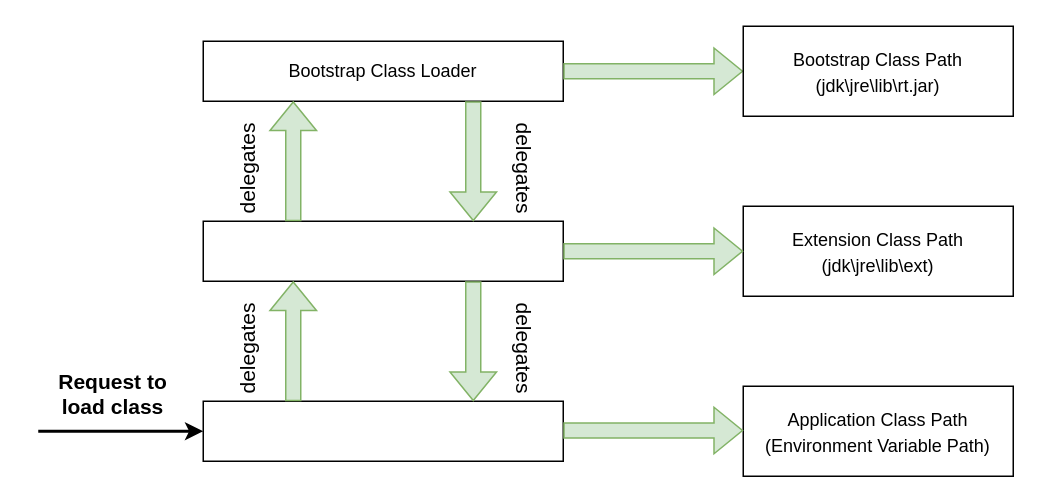
Image size: 1040x503. Some labels were removed from this diagram. Here are the shapes that lost their labels. From the top down, the box of each, then its label:
(202, 220, 563, 281): Extension Class Loader
(202, 400, 563, 461): Application Class Loader
